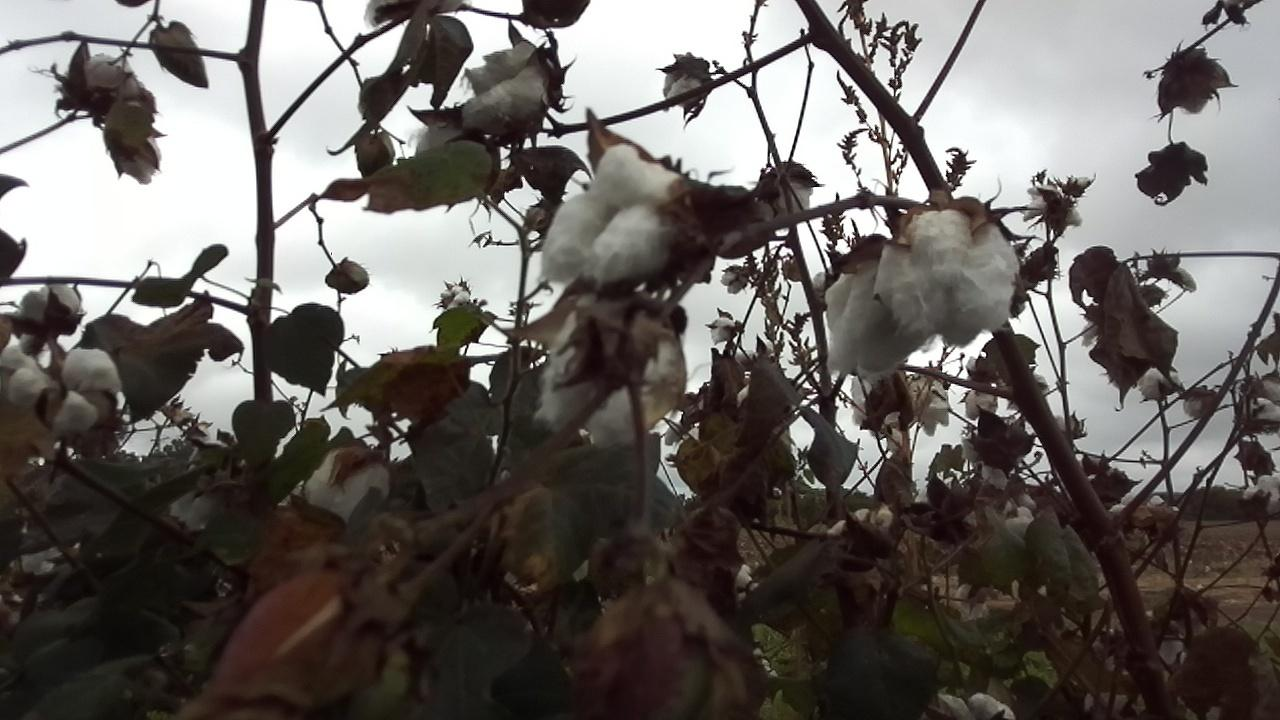cotton_ready: (535, 292, 686, 447), (540, 143, 685, 284), (874, 209, 1019, 347), (824, 257, 920, 385), (0, 343, 121, 437), (461, 40, 551, 135), (414, 111, 502, 187), (304, 447, 391, 521), (105, 89, 159, 184), (65, 53, 145, 114), (14, 280, 86, 336), (933, 687, 1018, 720), (661, 58, 712, 106), (324, 261, 369, 291)
